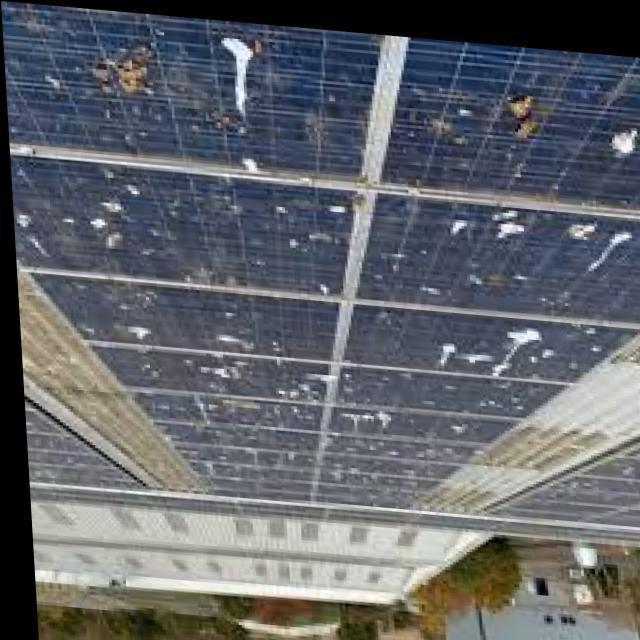Surface Contaminant: (124, 14, 318, 497), (352, 28, 640, 310), (326, 398, 470, 509), (0, 2, 119, 118), (487, 450, 640, 530), (10, 177, 125, 271), (407, 309, 568, 371), (382, 362, 516, 409), (77, 284, 153, 349)
